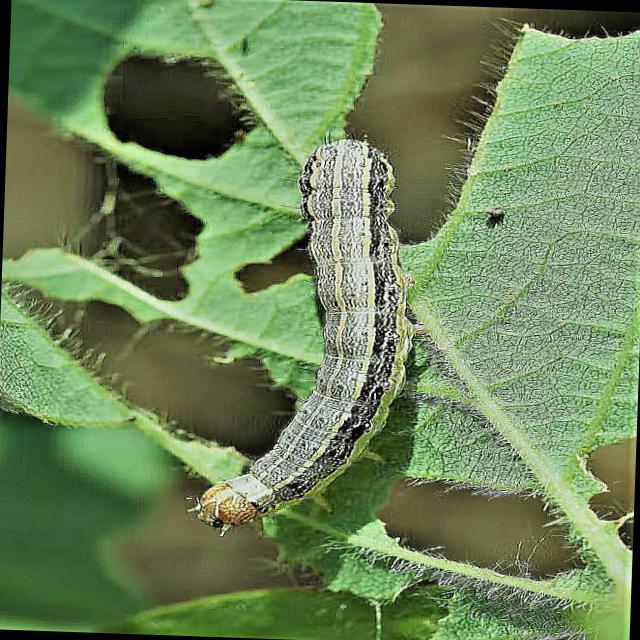Armyworm: (164, 126, 488, 549)
Armyworm_damage: (337, 464, 604, 608), (32, 47, 312, 174), (538, 425, 638, 547)
